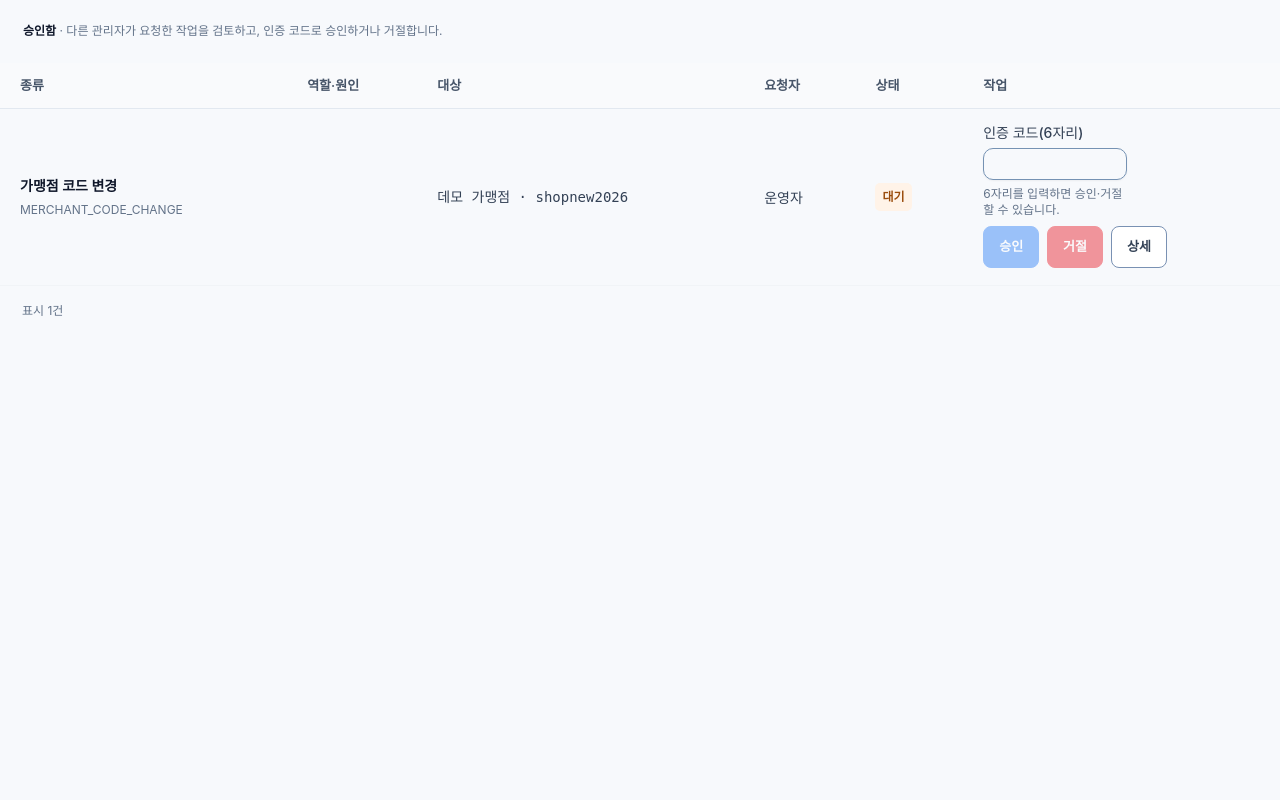
Test case: ApprovalsScreen — MC-1b merchant code change (MERCHANT-CODE-001 §5.5) › MAJOR-1 approver path: approving with the detail open re-reads it as EXECUTED → "변경됨 — shopnew2026", no mer_ anywhere in the DOM
This screenshot has width=1280, height=800.
Click the button "상세" at [1139, 247], box [1111, 226, 1167, 268]
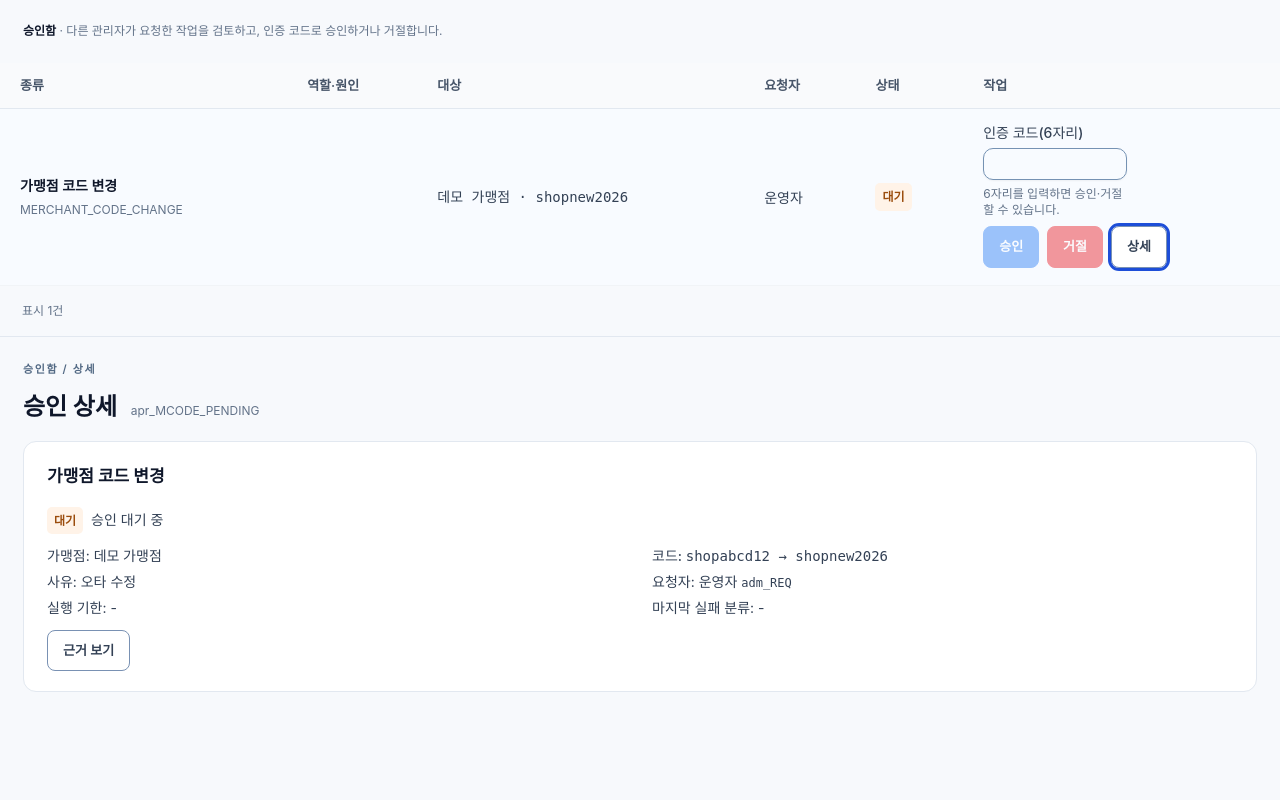
Expected: the element named "가맹점 코드 변경 승인 상세" is shown, [23, 441, 1257, 692]
Type "123456" into the field labelled "인증 코드(6자리)" at [1055, 164], box [983, 148, 1127, 180]
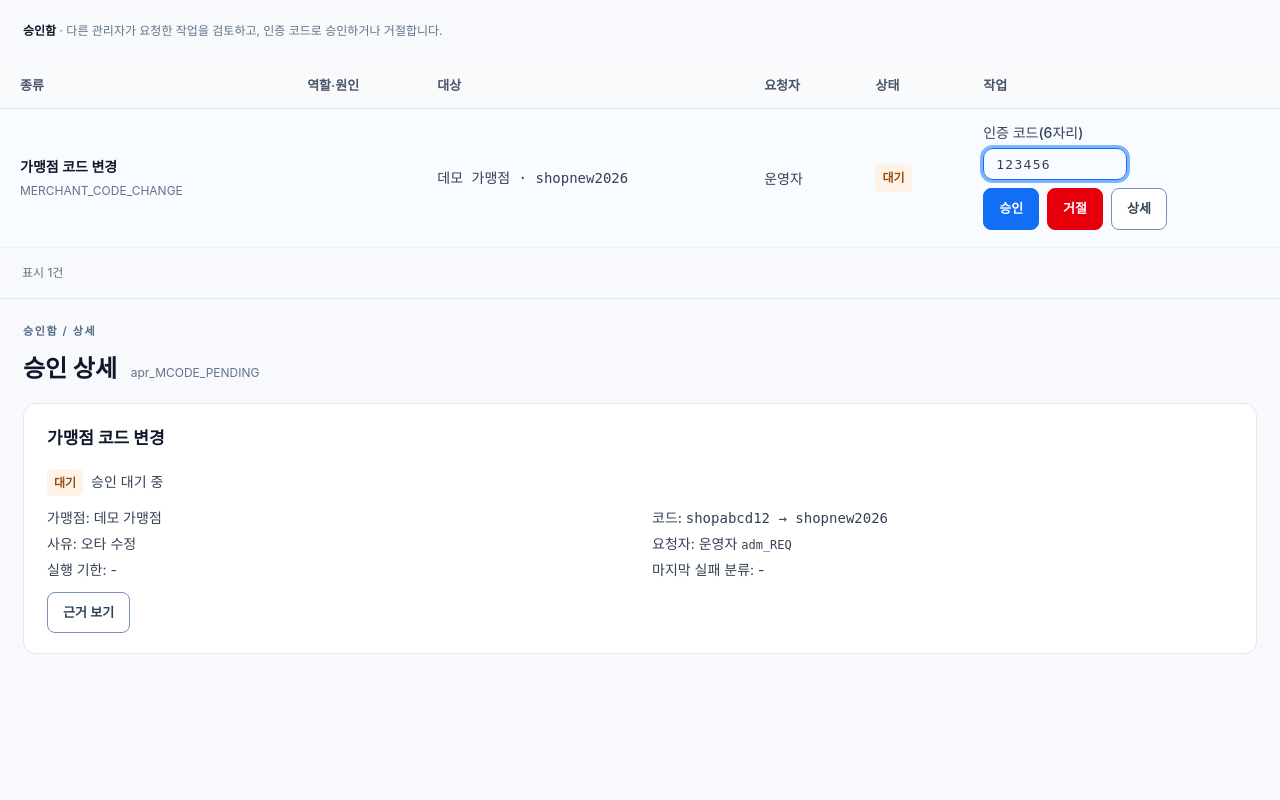
Click the button "승인" at [1011, 209], box [983, 188, 1039, 230]
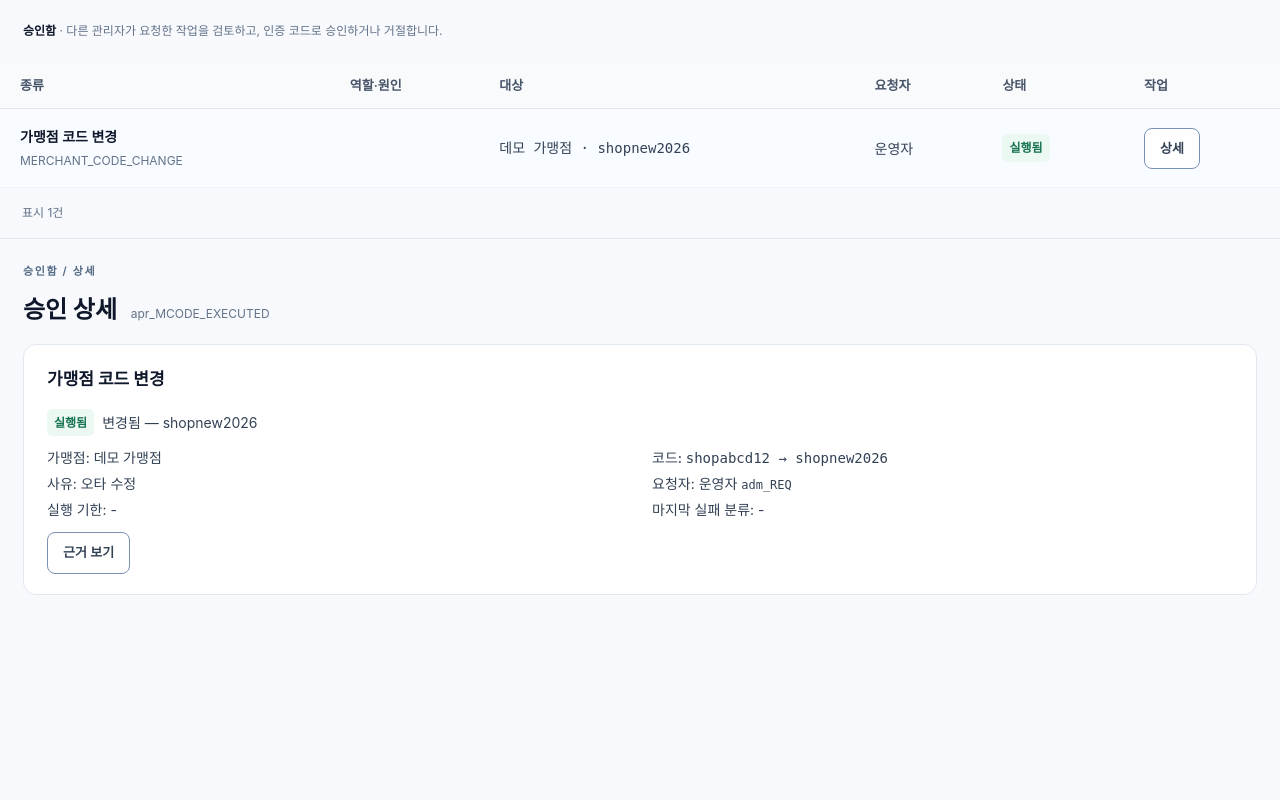
Expected: the element named "가맹점 코드 변경 승인 상세" shows "변경됨 — shopnew2026", [102, 414, 258, 431]
